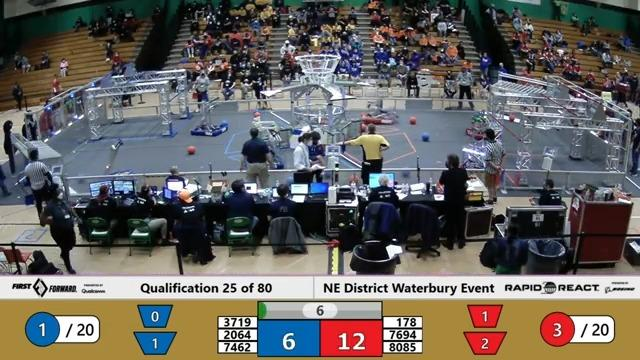robot: (93, 135, 137, 186), (249, 117, 283, 169), (191, 94, 229, 140), (361, 93, 402, 126), (463, 106, 498, 140), (462, 138, 496, 169)
